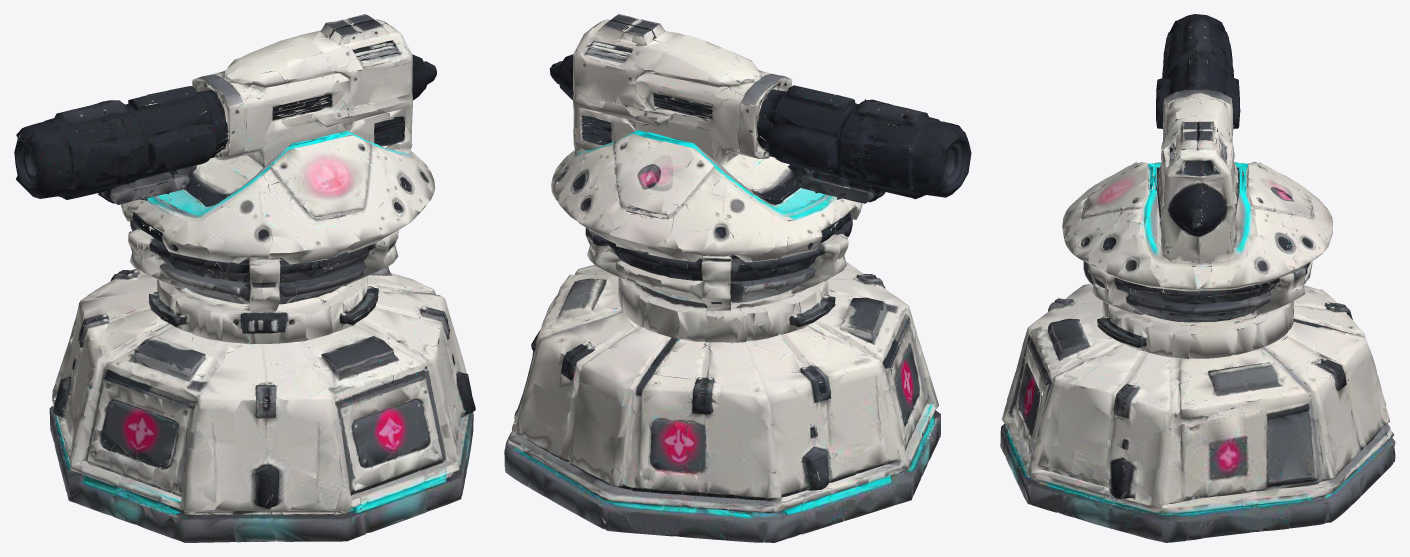
Rendered from sigkill.glb.
3 renders of one model, left to right at view 1: azimuth 30°, elevation 25°; view 2: azimuth 150°, elevation 25°; view 3: azimuth 270°, elevation 25°, orthographic. The views are drawn at different scales.
Parts seen in each view (by area): view 1: Mesh_0; view 2: Mesh_0; view 3: Mesh_0.
Boxes of the visible parts, bbox=[...] form: Mesh_0: bbox=[14, 14, 475, 542]; Mesh_0: bbox=[504, 14, 971, 542]; Mesh_0: bbox=[1000, 14, 1395, 542].
Size of the model in its own units: 1.9 by 1.74 by 1.69.
Materials: 1 (1 with a texture image).
